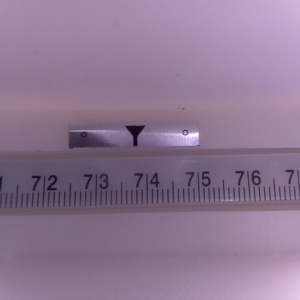2: (46, 175, 57, 191)
3: (99, 173, 108, 189)
4: (149, 172, 159, 188)
5: (200, 171, 210, 187)
6: (251, 170, 261, 186)
7: (82, 174, 93, 190), (30, 175, 41, 191), (133, 172, 143, 189), (184, 171, 194, 187), (235, 170, 245, 186), (285, 169, 294, 185)
finger: (123, 125, 146, 148)
